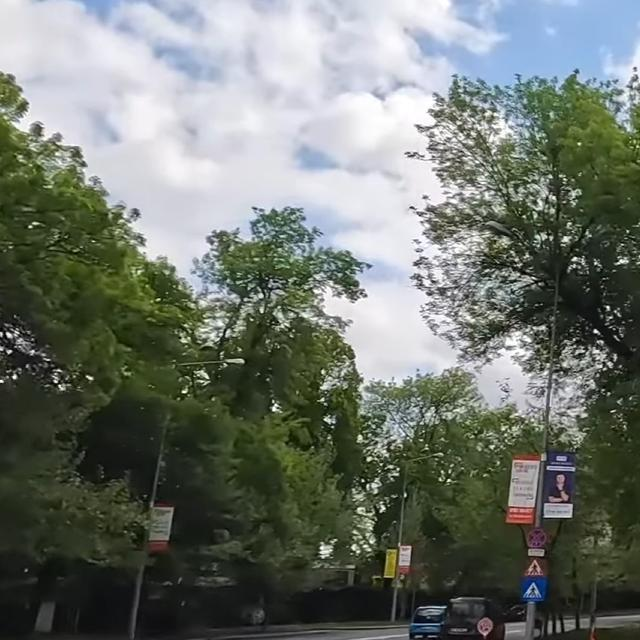forb_waiting: (525, 527, 548, 551)
info_crosswalk: (521, 577, 547, 602)
warn_crosswalk: (522, 557, 546, 576)
